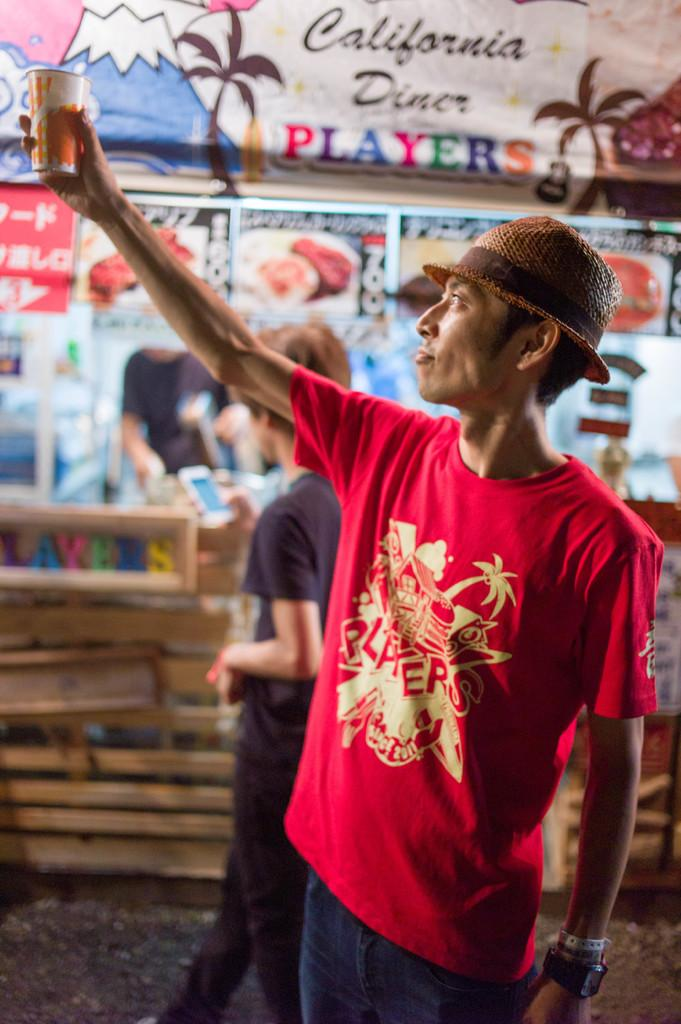Hat: (425, 208, 612, 387)
